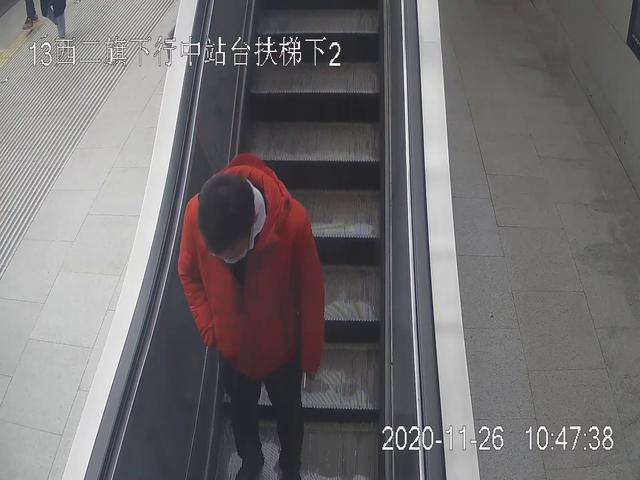person: (179, 153, 324, 480)
